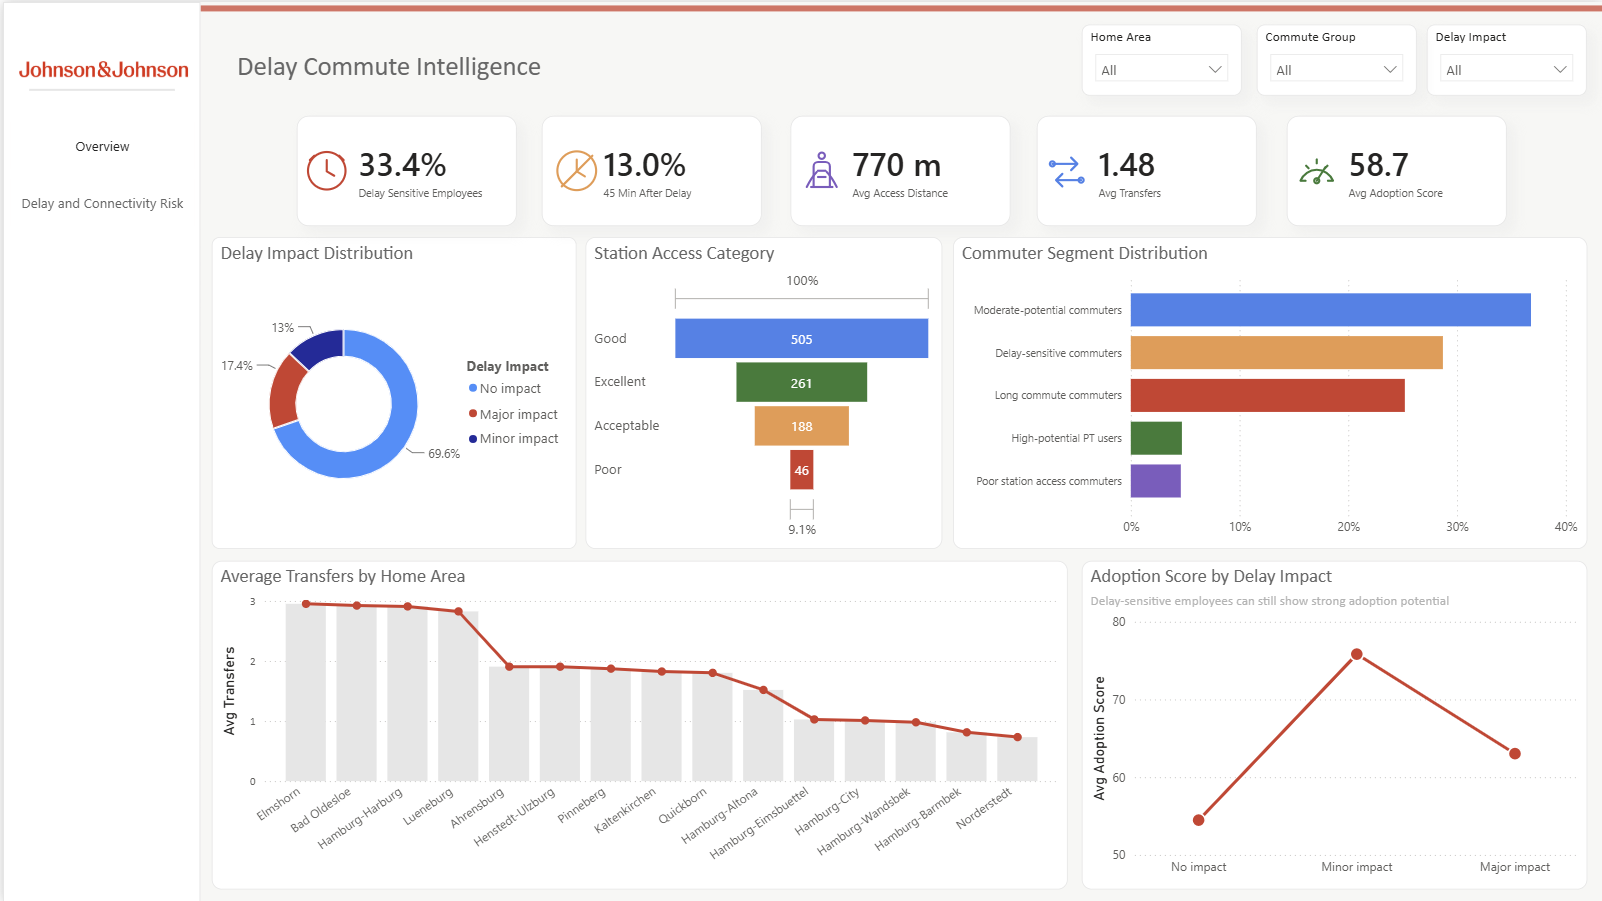

What the dashboard file says about the page in this screenshot:
{"tool":"powerbi","page":{"name":"Delay and Connectivity Risk","canvas":[1600,900],"ordinal":1},"visuals":[{"type":"shape","box":[194.3,0,1405.7,12.9],"z":0},{"type":"shape","box":[0,0,197.5,900],"z":1000},{"type":"image","box":[15.7,40,168.6,54.3],"z":2000},{"type":"slicer","title":"Delay Impact","fields":{"Values":["CommuteData.Delay Impact Visual"]},"box":[1424.3,22.9,160,71.4],"z":3000},{"type":"slicer","title":"Home Area","fields":{"Values":["CommuteData.home_area"]},"box":[1078.6,22.9,160,71.4],"z":4000},{"type":"slicer","title":"Commute Group","fields":{"Values":["CommuteData.risk_adjusted_commute_group"]},"box":[1254.3,22.9,160,71.4],"z":5000},{"type":"donutChart","title":"Delay Impact Distribution","fields":{"Category":["CommuteData.Delay Impact Visual"],"Y":["Count(CommuteData.employee_id)"]},"box":[209,235,365,312],"z":6000},{"type":"shape","box":[25.7,50,145.7,75.7],"z":7000},{"type":"cardVisual","fields":{"Data":["CommuteData.Crosses 45 Min After Delay %"]},"box":[538.6,114.3,220,110],"z":8000},{"type":"cardVisual","fields":{"Data":["CommuteData.Avg Access Distance Display"]},"box":[787.1,114.3,220,110],"z":9000},{"type":"cardVisual","fields":{"Data":["CommuteData.Avg Transfers"]},"box":[1034.3,114.3,220,110],"z":10000},{"type":"cardVisual","fields":{"Data":["CommuteData.Avg Adoption Score"]},"box":[1284.3,114.3,220,110],"z":11000},{"type":"cardVisual","fields":{"Data":["CommuteData.Delay Sensitive Employees %"]},"box":[294.3,114.3,220,110],"z":12000},{"type":"textbox","box":[197.1,42.9,377.1,54.3],"z":13000},{"type":"image","box":[294.3,138.6,60,60],"z":14000},{"type":"image","box":[544.3,138.6,60,60],"z":15000},{"type":"image","box":[788.6,140,60,60],"z":16000},{"type":"image","box":[1034.3,140,60,60],"z":17000},{"type":"image","box":[1284.3,140,60,60],"z":18000},{"type":"pageNavigator","box":[7.1,120,184.3,104.3],"z":19000},{"type":"funnel","title":"Station Access Category","fields":{"Category":["CommuteData.station_access_category"],"Y":["CountNonNull(CommuteData.employee_id)"]},"box":[583,235,357,312],"z":20000},{"type":"clusteredBarChart","title":"Commuter Segment Distribution","fields":{"Category":["CommuteData.commuter_segment"],"Y":["Count(CommuteData.employee_id)"]},"box":[950,235,634,312],"z":21000},{"type":"lineStackedColumnComboChart","title":"Average Transfers by Home Area","fields":{"Category":["CommuteData.home_area"],"Y":["CommuteData.Avg Transfers"],"Y2":["CommuteData.Avg Transfers"]},"box":[208.6,558.6,855.7,328.6],"z":22000},{"type":"lineChart","title":"Adoption Score by Delay Impact","fields":{"Category":["CommuteData.Delay Impact Visual"],"Y":["CommuteData.Avg Adoption Score"]},"box":[1078.6,558.6,505.7,328.6],"z":23000}]}

Visuals, with their boxes on the page's 1600x900 design canvas (x1, y1, x2, y2). These are canvas units, not pixel positions in the 1602x901 screenshot, which may show the page scaled, cropped or inside an application window:
shape: <region>194, 0, 1600, 13</region>
shape: <region>0, 0, 198, 900</region>
image: <region>16, 40, 184, 94</region>
"Delay Impact" slicer: <region>1424, 23, 1584, 94</region>
"Home Area" slicer: <region>1079, 23, 1239, 94</region>
"Commute Group" slicer: <region>1254, 23, 1414, 94</region>
"Delay Impact Distribution" donutChart: <region>209, 235, 574, 547</region>
shape: <region>26, 50, 171, 126</region>
cardVisual - CommuteData.Crosses 45 Min After Delay %: <region>539, 114, 759, 224</region>
cardVisual - CommuteData.Avg Access Distance Display: <region>787, 114, 1007, 224</region>
cardVisual - CommuteData.Avg Transfers: <region>1034, 114, 1254, 224</region>
cardVisual - CommuteData.Avg Adoption Score: <region>1284, 114, 1504, 224</region>
cardVisual - CommuteData.Delay Sensitive Employees %: <region>294, 114, 514, 224</region>
textbox: <region>197, 43, 574, 97</region>
image: <region>294, 139, 354, 199</region>
image: <region>544, 139, 604, 199</region>
image: <region>789, 140, 849, 200</region>
image: <region>1034, 140, 1094, 200</region>
image: <region>1284, 140, 1344, 200</region>
pageNavigator: <region>7, 120, 191, 224</region>
"Station Access Category" funnel: <region>583, 235, 940, 547</region>
"Commuter Segment Distribution" clusteredBarChart: <region>950, 235, 1584, 547</region>
"Average Transfers by Home Area" lineStackedColumnComboChart: <region>209, 559, 1064, 887</region>
"Adoption Score by Delay Impact" lineChart: <region>1079, 559, 1584, 887</region>
